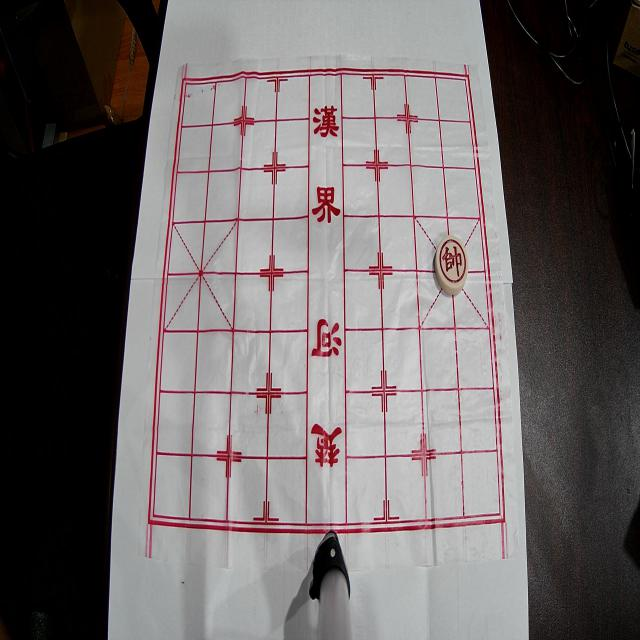red-general: (435, 235, 468, 295)
